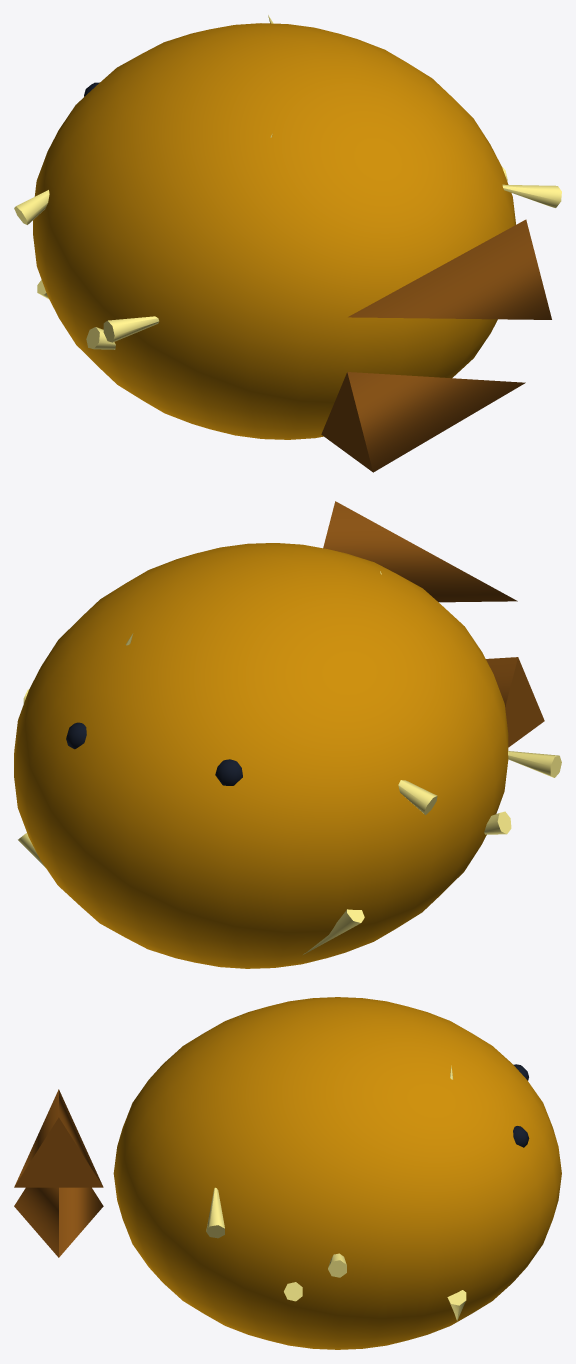
Rendered from fish-puffer.glb.
3 views of the same model, one above another, from view 1: azimuth 30°, elevation 25°; view 2: azimuth 150°, elevation 25°; view 3: azimuth 270°, elevation 25° (orthographic). The views are drawn at different scales.
Bounding box in the file's own units: 0.81 × 0.6084 × 0.9821.
